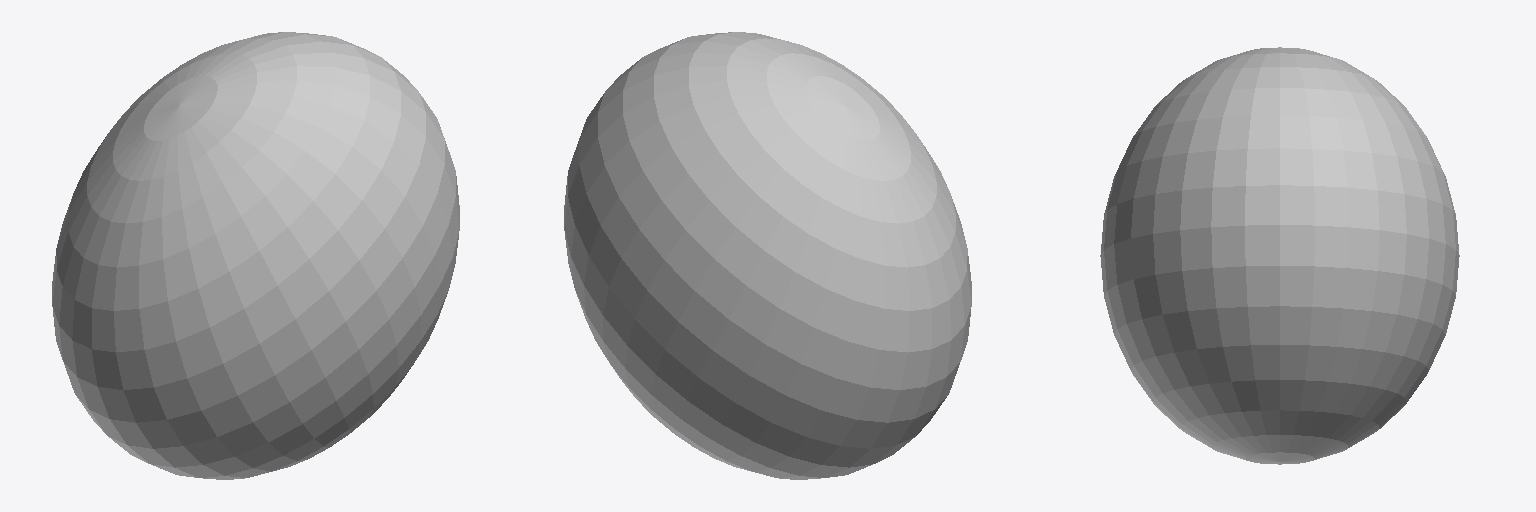
File: Dinoflagellates4.obj
3 renders of one model, left to right at view 1: azimuth 30°, elevation 25°; view 2: azimuth 150°, elevation 25°; view 3: azimuth 270°, elevation 25°, orthographic.
Parts seen in each view (by area): view 1: Dinoflagallates4; view 2: Dinoflagallates4; view 3: Dinoflagallates4.
Part boxes in pixels (x1,y1,x2,y2): Dinoflagallates4: (52,32,459,479); Dinoflagallates4: (564,32,971,479); Dinoflagallates4: (1100,47,1459,464).
Size of the model in its own units: 52.87 by 55.87 by 44.77.